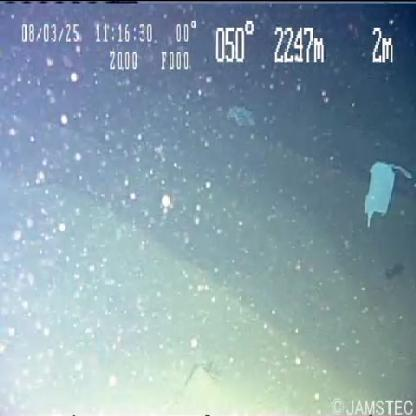Rác: (364, 162, 396, 218)
